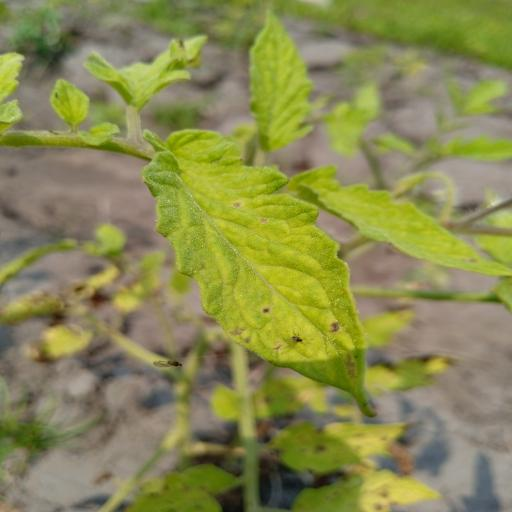Tomato_Brown_Spots: (147, 123, 380, 423)
